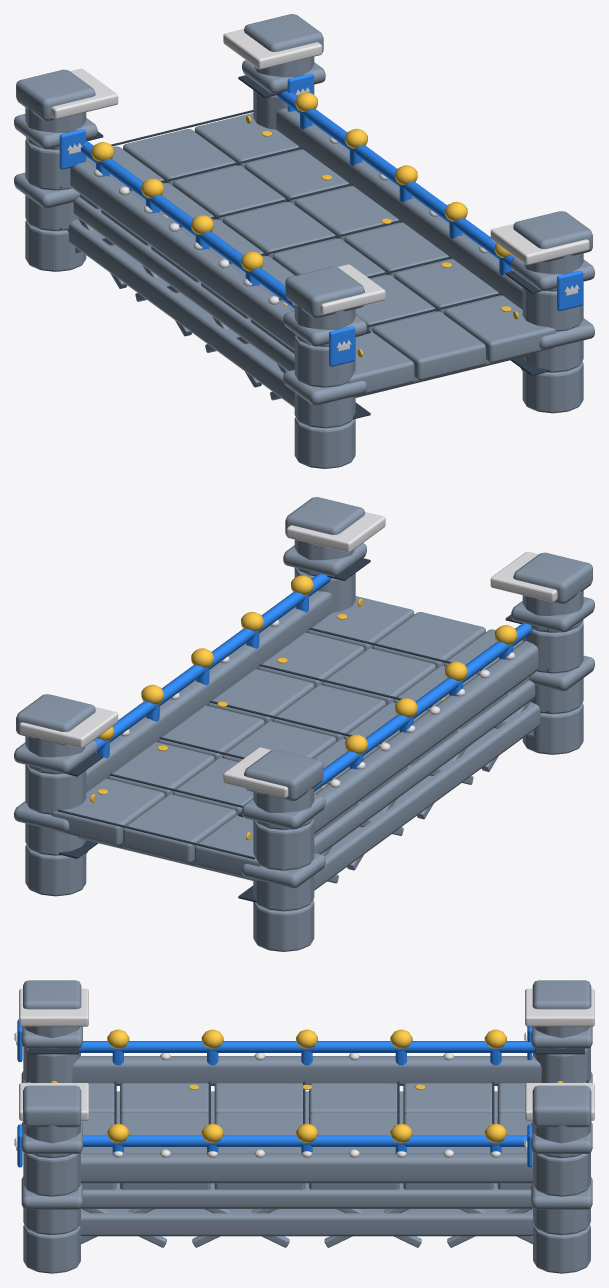
The model's file is steel-bridge.glb.
3 views of the same model, one above another, from view 1: azimuth 30°, elevation 25°; view 2: azimuth 150°, elevation 25°; view 3: azimuth 270°, elevation 25° (orthographic). The views are drawn at different scales.
Visible parts, largest first — view 1: steel_mesh.014, team_mesh.045, white_mesh.014, gold_mesh.012, track_mesh.007; view 2: steel_mesh.014, white_mesh.014, team_mesh.045, track_mesh.007, gold_mesh.012; view 3: steel_mesh.014, team_mesh.045, white_mesh.014, gold_mesh.012, track_mesh.007.
Boxes of the visible parts, x1,y1,x2,y2 form: steel_mesh.014: (14, 14, 594, 468); team_mesh.045: (59, 73, 583, 366); white_mesh.014: (51, 29, 589, 351); gold_mesh.012: (91, 92, 518, 357); track_mesh.007: (60, 75, 549, 419); steel_mesh.014: (14, 497, 594, 951); white_mesh.014: (19, 512, 557, 797); team_mesh.045: (94, 573, 583, 818); track_mesh.007: (57, 558, 548, 902); gold_mesh.012: (90, 575, 517, 840); steel_mesh.014: (21, 980, 592, 1273); team_mesh.045: (17, 1019, 534, 1167); white_mesh.014: (14, 988, 594, 1157); gold_mesh.012: (51, 1029, 563, 1142); track_mesh.007: (29, 1048, 588, 1225).
Bounding box in the file's own units: 3.29 × 1.94 × 6.15.
